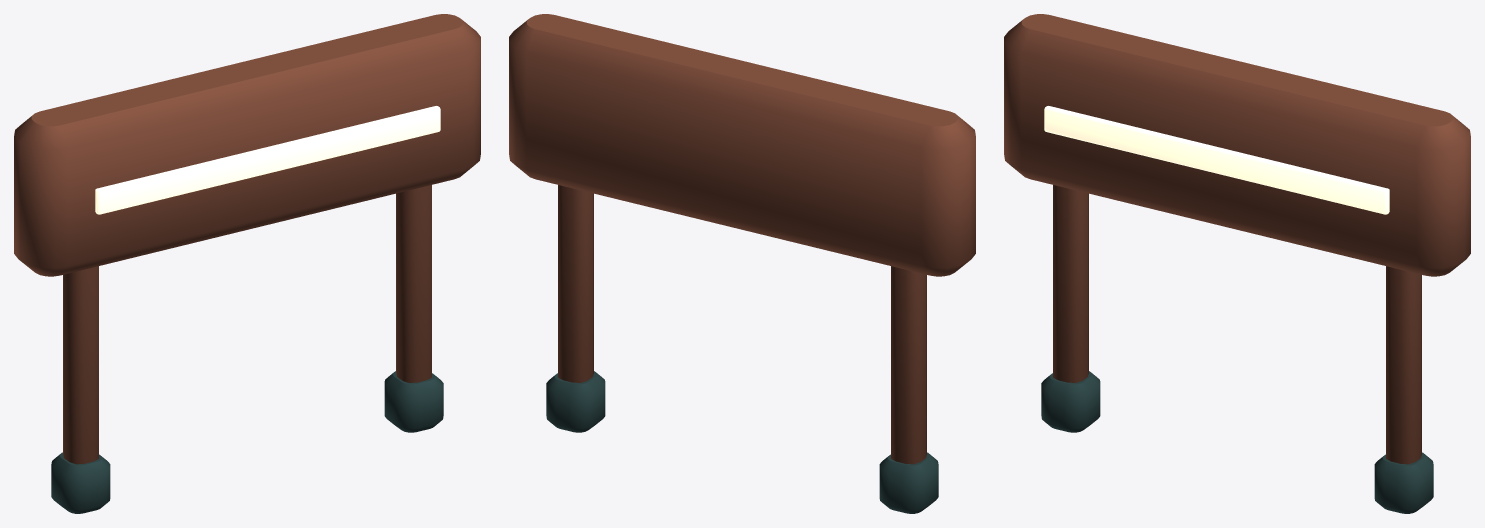
File: fuel_works_4.glb
3 renders of one model, left to right at view 1: azimuth 30°, elevation 25°; view 2: azimuth 150°, elevation 25°; view 3: azimuth 330°, elevation 25°, orthographic.
Visible parts, largest first — view 1: FuelWorks4; view 2: FuelWorks4; view 3: FuelWorks4.
Part boxes in pixels (left/top/right/bottom): FuelWorks4: left=14, top=14, right=480, bottom=513; FuelWorks4: left=509, top=14, right=975, bottom=513; FuelWorks4: left=1004, top=14, right=1470, bottom=513.
Size of the model in its own units: 1.78 by 1.48 by 0.277.
